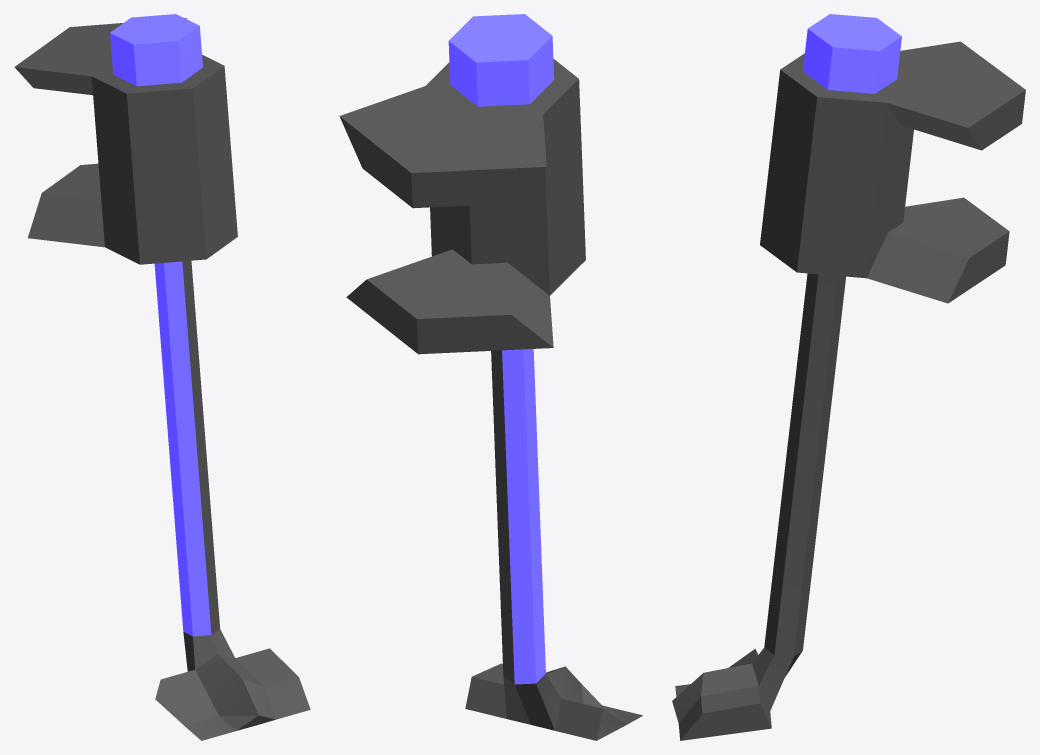
File: dyson.fbx
3 renders of one model, left to right at view 1: azimuth 30°, elevation 25°; view 2: azimuth 150°, elevation 25°; view 3: azimuth 270°, elevation 25°, orthographic. The views are drawn at different scales.
Parts seen in each view (by area): view 1: DYSON; view 2: DYSON; view 3: DYSON.
Boxes of the visible parts, x1,y1,x2,y2 form: DYSON: [14, 14, 310, 740]; DYSON: [339, 14, 642, 740]; DYSON: [672, 14, 1025, 740].
Bounding box in the file's own units: 36.02 × 123 × 58.34.
